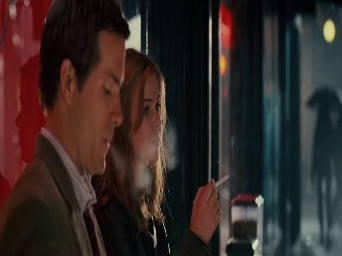smoke: (211, 172, 231, 190)
